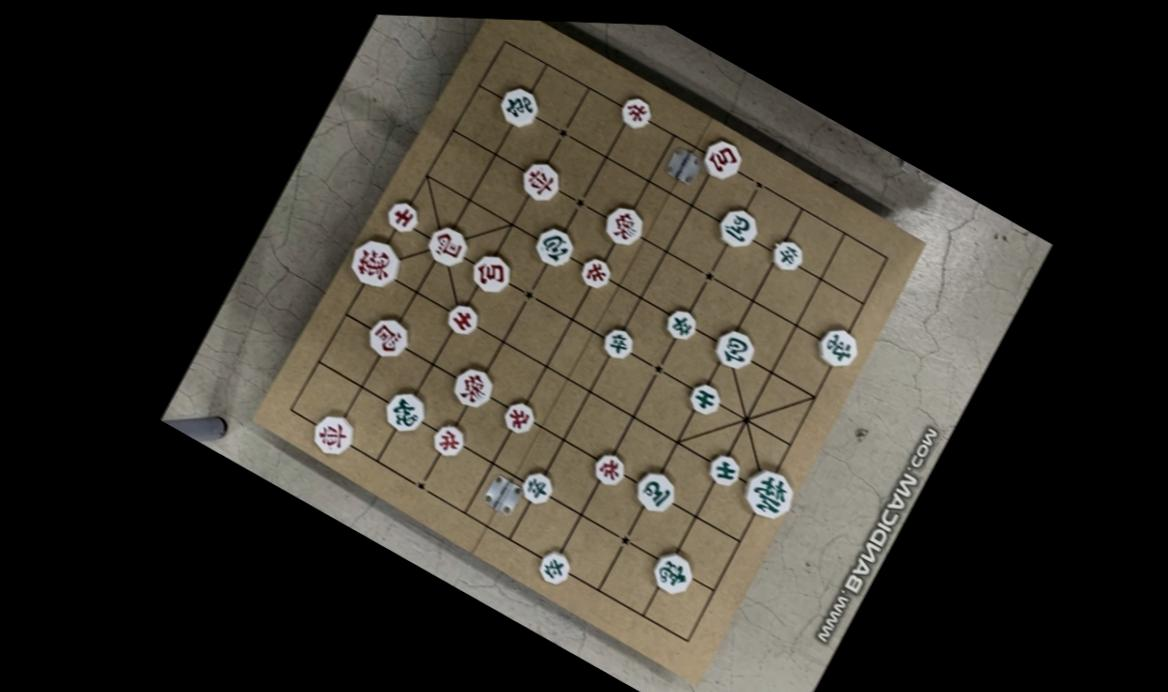cha_green: (813, 321, 862, 373), (495, 81, 543, 133)
cha_red: (306, 406, 358, 462), (515, 155, 564, 207)
jol_green: (595, 319, 638, 364), (533, 540, 574, 585), (518, 466, 557, 510), (768, 234, 808, 276), (661, 303, 699, 343)
jol_red: (588, 446, 629, 491), (428, 418, 468, 461), (498, 395, 537, 438), (574, 251, 613, 293), (616, 91, 654, 133)
ma_green: (629, 462, 680, 516), (711, 201, 762, 255)
ma_red: (362, 309, 412, 363), (421, 220, 471, 272)
po_green: (707, 322, 758, 375), (529, 219, 579, 273)
po_red: (464, 245, 515, 300), (697, 133, 746, 185)
sa_green: (704, 448, 744, 491), (684, 377, 723, 420)
sa_red: (381, 194, 422, 237), (442, 298, 481, 338)
sang_green: (647, 546, 698, 601), (380, 382, 430, 437)
sang_red: (447, 360, 497, 414), (599, 199, 647, 249)
wang_green: (737, 460, 799, 526)
wang_red: (345, 232, 405, 294)
